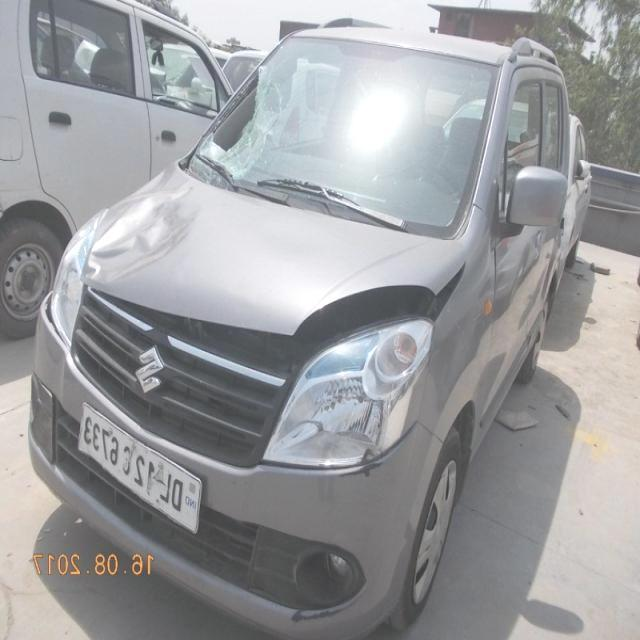minor: (77, 37, 290, 293), (103, 262, 463, 379)
severe: (180, 38, 291, 189)
